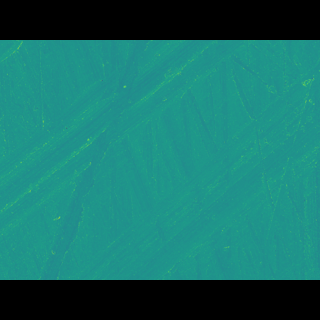Loch: (62, 88, 320, 250), (0, 69, 250, 217)
